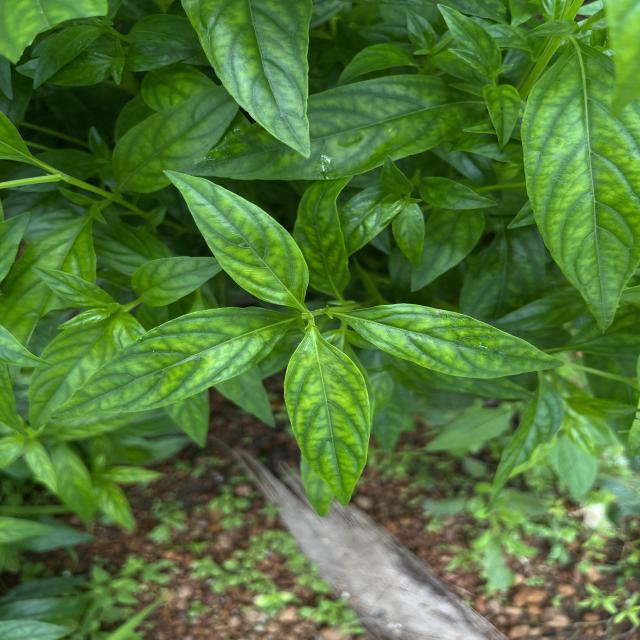Andrographis paniculata: (516, 42, 640, 334), (170, 72, 480, 182), (49, 304, 292, 422), (162, 166, 310, 310), (339, 302, 568, 381), (279, 327, 372, 509), (107, 80, 245, 194), (292, 179, 353, 300), (128, 254, 226, 309), (34, 265, 110, 317), (414, 176, 506, 212)
